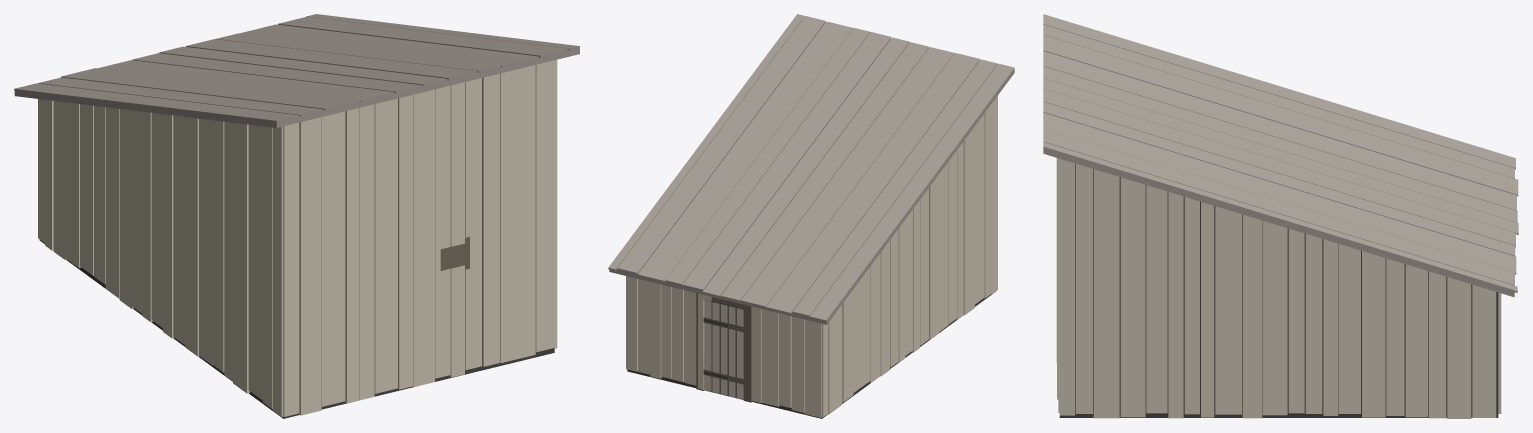
Rendered from recon_1835_blk_south_water_franklin_d2_05__inferred_1835.glb.
The picture shows the model from 3 angles, left to right: view 1: azimuth 30°, elevation 25°; view 2: azimuth 150°, elevation 25°; view 3: azimuth 270°, elevation 25°; orthographic projection. The views are drawn at different scales.
Visible parts, largest first — view 1: recon_1835_blk_south_water_franklin_d2_05__inferred_1835; view 2: recon_1835_blk_south_water_franklin_d2_05__inferred_1835; view 3: recon_1835_blk_south_water_franklin_d2_05__inferred_1835.
Boxes of the visible parts, bbox=[...] form: recon_1835_blk_south_water_franklin_d2_05__inferred_1835: bbox=[14, 14, 579, 418]; recon_1835_blk_south_water_franklin_d2_05__inferred_1835: bbox=[608, 14, 1014, 418]; recon_1835_blk_south_water_franklin_d2_05__inferred_1835: bbox=[1043, 14, 1518, 418].
Size of the model in its own units: 4.66 by 4.55 by 7.04.
